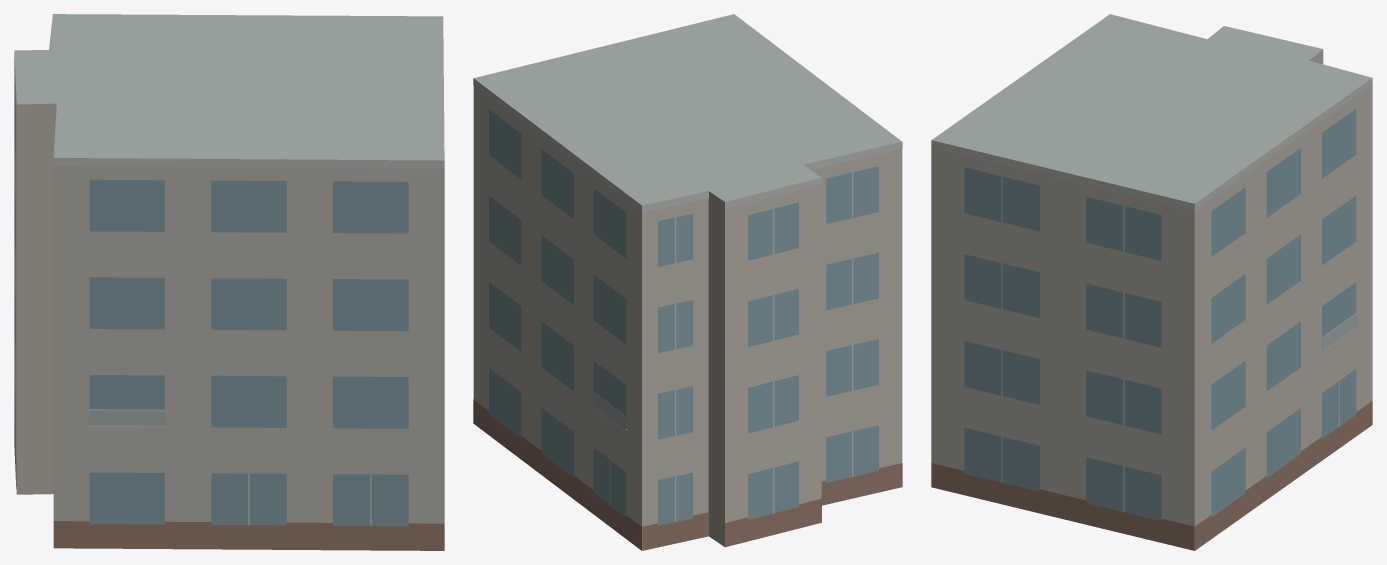
Rendered from survey-upis-32746412.glb.
The picture shows the model from 3 angles, left to right: view 1: azimuth 30°, elevation 25°; view 2: azimuth 150°, elevation 25°; view 3: azimuth 270°, elevation 25°; orthographic projection. The views are drawn at different scales.
Visible parts, largest first — view 1: survey-upis-32746412.tmp; view 2: survey-upis-32746412.tmp; view 3: survey-upis-32746412.tmp.
Boxes of the visible parts, bbox=[...] form: survey-upis-32746412.tmp: bbox=[14, 14, 444, 550]; survey-upis-32746412.tmp: bbox=[473, 14, 902, 550]; survey-upis-32746412.tmp: bbox=[931, 14, 1372, 550].
Bounding box in the file's own units: 13.73 × 11.7 × 13.48.
